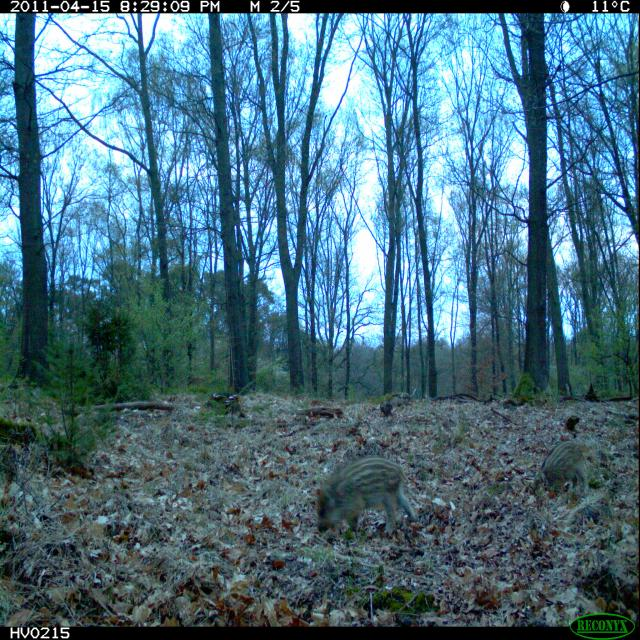boar: (297, 431, 427, 556), (525, 412, 614, 521)
